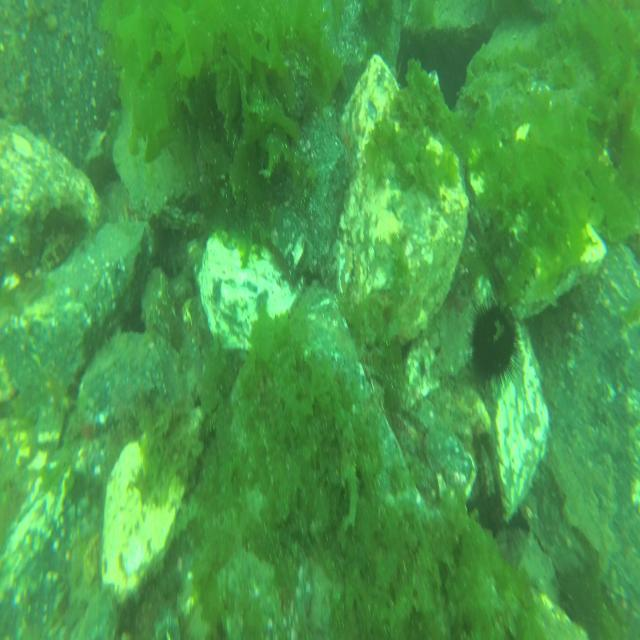echinus: (469, 294, 521, 388)
